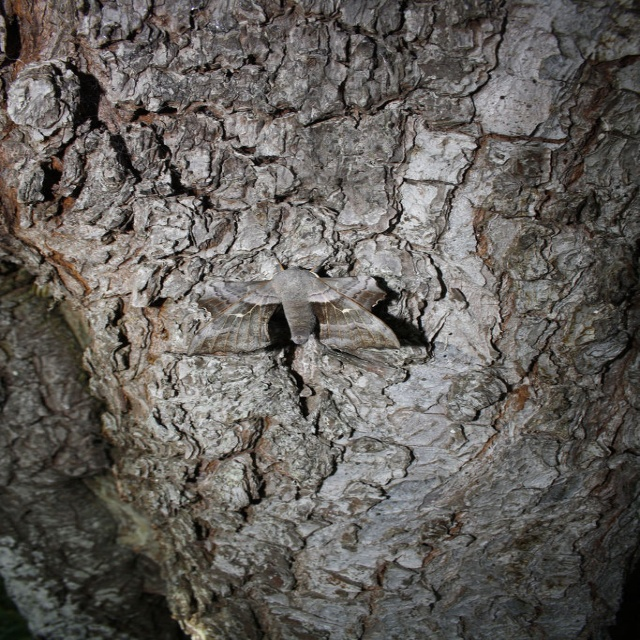Moths and butterflies: (186, 258, 407, 355)
